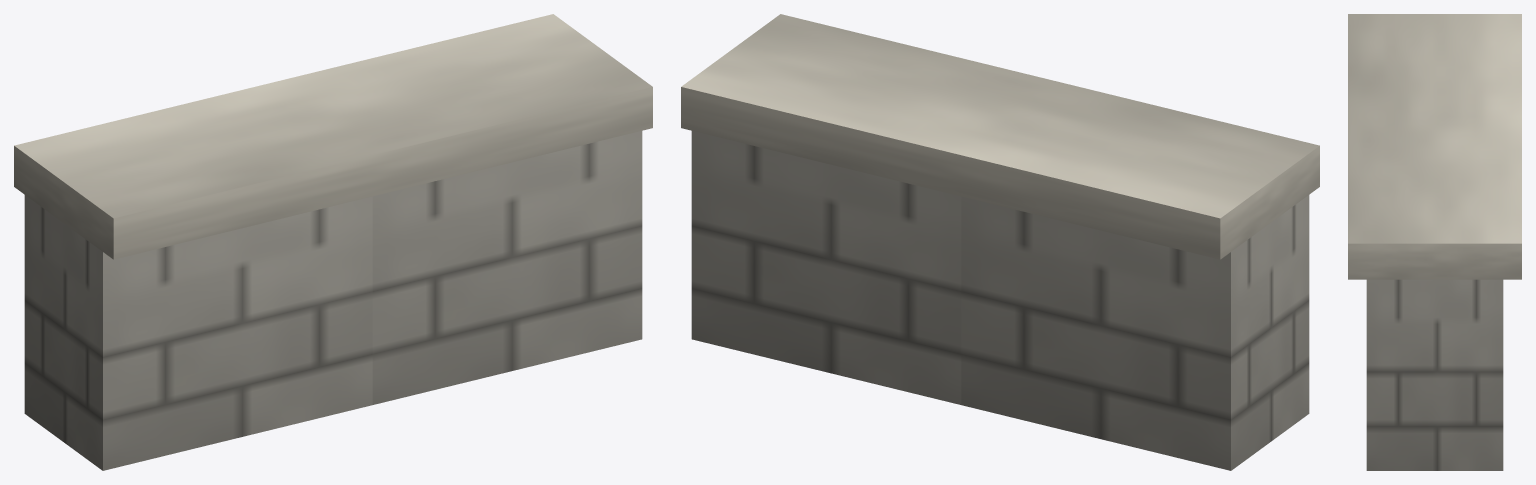
Rendered from wall_low_stone_01.glb.
The picture shows the model from 3 angles, left to right: view 1: azimuth 30°, elevation 25°; view 2: azimuth 150°, elevation 25°; view 3: azimuth 270°, elevation 25°; orthographic projection. The views are drawn at different scales.
Parts seen in each view (by area): view 1: wall_low_stone_01; view 2: wall_low_stone_01; view 3: wall_low_stone_01.
Part boxes in pixels (bbox=[...]): wall_low_stone_01: bbox=[14, 14, 652, 470]; wall_low_stone_01: bbox=[681, 14, 1319, 470]; wall_low_stone_01: bbox=[1348, 14, 1521, 470].
Size of the model in its own units: 2.19 by 1.01 by 0.7.
1 material, 1 textured.
